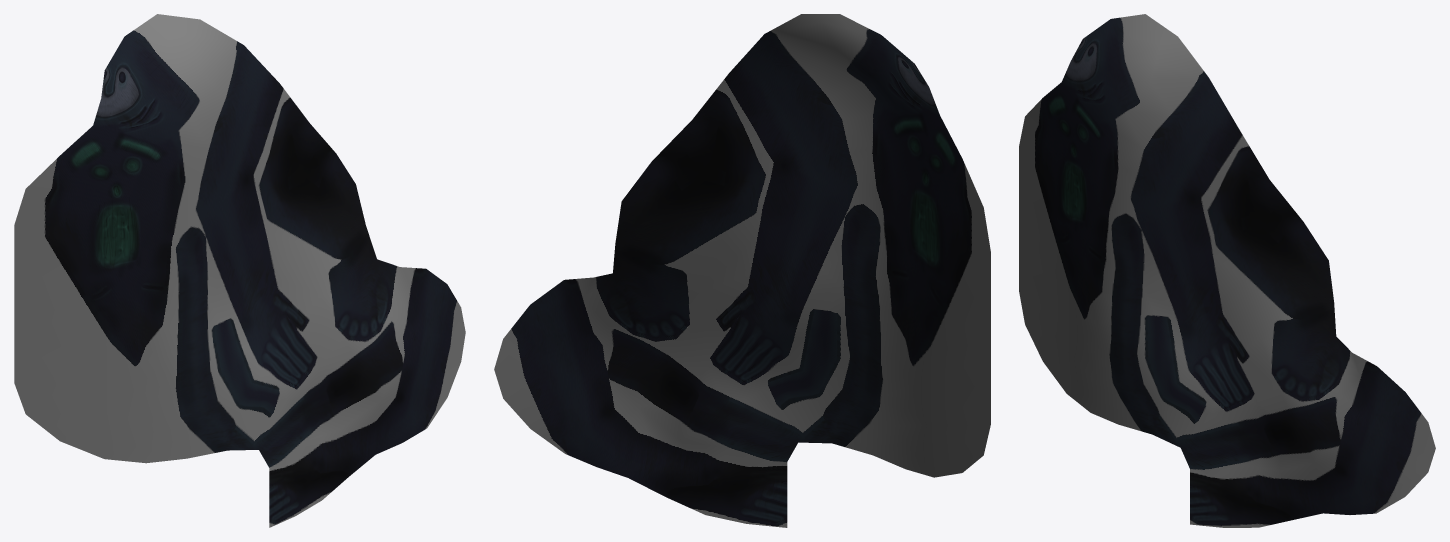
Rendered from monky.fbx.
3 renders of one model, left to right at view 1: azimuth 30°, elevation 25°; view 2: azimuth 150°, elevation 25°; view 3: azimuth 330°, elevation 25°, orthographic. The views are drawn at different scales.
Parts seen in each view (by area): view 1: monky_Mesh_001; view 2: monky_Mesh_001; view 3: monky_Mesh_001.
Boxes of the visible parts, x1,y1,x2,y2 form: monky_Mesh_001: (14,14,465,527); monky_Mesh_001: (494,14,990,527); monky_Mesh_001: (1019,14,1435,527).
Bounding box in the file's own units: 97.62 × 105 × 13.14.
